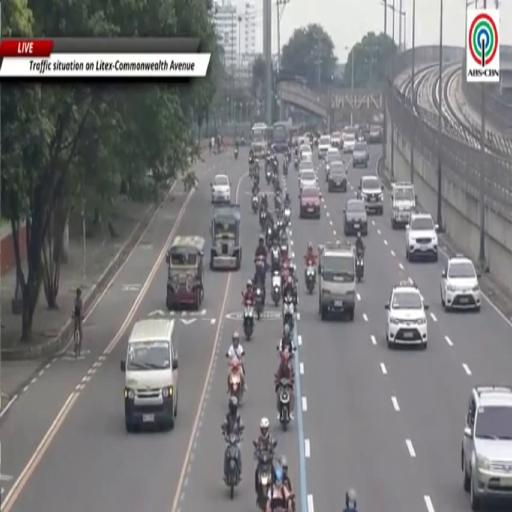bus: (272, 122, 291, 153)
car: (121, 318, 178, 431), (462, 386, 511, 509), (319, 243, 356, 321), (385, 281, 428, 348), (441, 254, 481, 310), (406, 213, 438, 261), (390, 182, 416, 230), (358, 176, 383, 215), (344, 199, 368, 235), (300, 186, 321, 218), (328, 160, 347, 191), (211, 174, 230, 203), (325, 148, 341, 181), (352, 141, 369, 167), (300, 169, 317, 190), (342, 126, 356, 147), (318, 135, 330, 159), (368, 125, 382, 143), (343, 134, 356, 153), (299, 144, 312, 162), (300, 143, 312, 161), (299, 160, 314, 172), (331, 132, 341, 148), (300, 153, 312, 164)
jeepney: (167, 236, 205, 310), (210, 204, 241, 269), (251, 123, 267, 158)
motorcycle: (224, 432, 241, 499), (255, 452, 272, 511), (278, 379, 292, 431), (229, 361, 243, 403), (283, 294, 294, 331), (244, 302, 254, 340), (271, 271, 281, 306), (255, 285, 264, 321), (306, 265, 315, 294), (270, 246, 280, 270), (356, 254, 364, 281), (259, 210, 267, 229), (280, 239, 288, 257), (283, 208, 290, 227), (254, 166, 260, 186), (274, 195, 281, 212), (276, 218, 284, 232), (265, 168, 272, 184), (267, 227, 272, 249), (252, 196, 258, 213), (249, 160, 254, 179), (283, 160, 288, 177), (295, 158, 299, 170), (234, 148, 238, 159)
